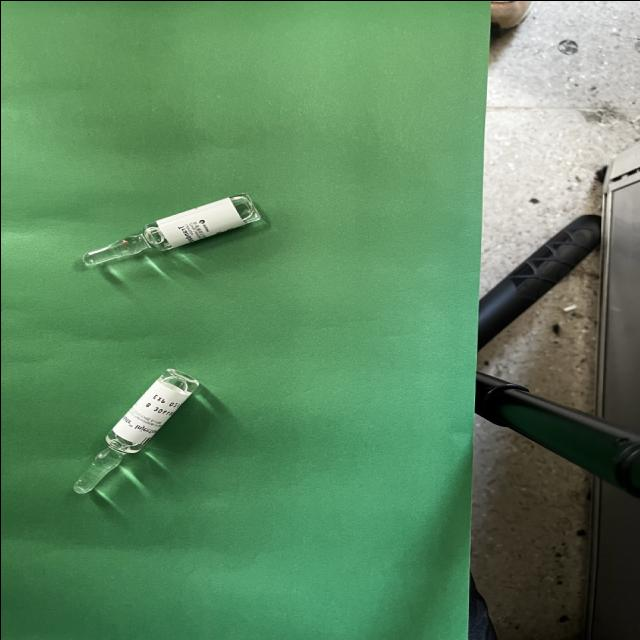Ampoules: (73, 368, 199, 492), (82, 194, 260, 266)
